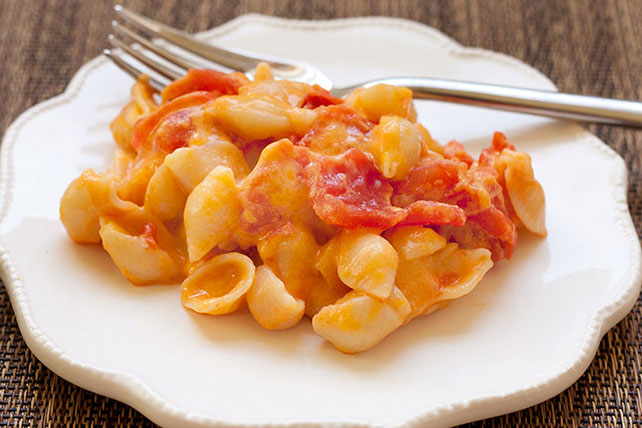macncheese: (73, 67, 552, 357)
